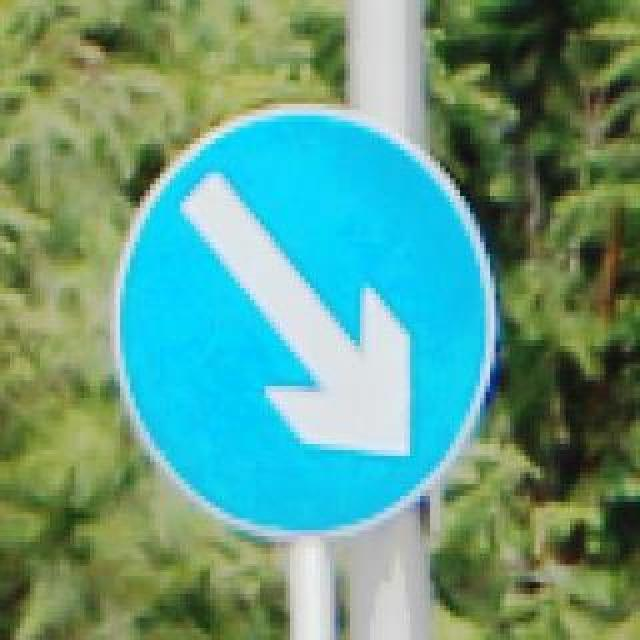keep right: (106, 92, 490, 542)
